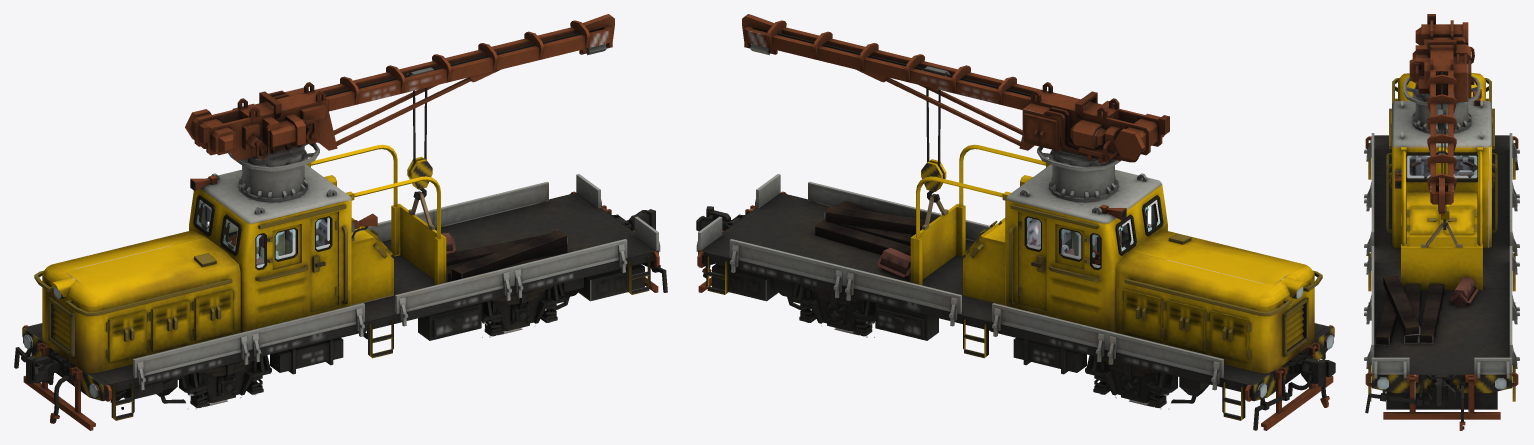
File: mvp_ir_dgku.obj
The picture shows the model from 3 angles, left to right: view 1: azimuth 30°, elevation 25°; view 2: azimuth 150°, elevation 25°; view 3: azimuth 270°, elevation 25°; orthographic projection. The views are drawn at different scales.
Visible parts, largest first — view 1: FRAME_mvp_dgku, WIDGET_2_TOGGLE_CG_CRANE_LABEL_^, DOOR_1_mvp_dgku, INTERIOR_1_LCG_IL_mvp_dgku, WIDGET_9_TOGGLE_TL_3.21875_X_TL_-1.5_Y_CG_CRANE_LABEL_^; view 2: FRAME_mvp_dgku, WIDGET_2_TOGGLE_CG_CRANE_LABEL_^, DOOR_2_mvp_dgku, INTERIOR_1_LCG_IL_mvp_dgku, WIDGET_9_TOGGLE_TL_3.21875_X_TL_-1.5_Y_CG_CRANE_LABEL_^; view 3: FRAME_mvp_dgku, WIDGET_2_TOGGLE_CG_CRANE_LABEL_^, INTERIOR_1_LCG_IL_mvp_dgku, WIDGET_9_TOGGLE_TL_3.21875_X_TL_-1.5_Y_CG_CRANE_LABEL_^.
Boxes of the visible parts, bbox=[...] form: FRAME_mvp_dgku: bbox=[14, 144, 667, 430]; WIDGET_2_TOGGLE_CG_CRANE_LABEL_^: bbox=[185, 14, 614, 202]; DOOR_1_mvp_dgku: bbox=[310, 212, 338, 311]; INTERIOR_1_LCG_IL_mvp_dgku: bbox=[195, 199, 329, 268]; WIDGET_9_TOGGLE_TL_3.21875_X_TL_-1.5_Y_CG_CRANE_LABEL_^: bbox=[407, 87, 432, 200]; FRAME_mvp_dgku: bbox=[696, 144, 1335, 430]; WIDGET_2_TOGGLE_CG_CRANE_LABEL_^: bbox=[742, 14, 1169, 202]; DOOR_2_mvp_dgku: bbox=[1018, 212, 1046, 311]; INTERIOR_1_LCG_IL_mvp_dgku: bbox=[1027, 199, 1161, 268]; WIDGET_9_TOGGLE_TL_3.21875_X_TL_-1.5_Y_CG_CRANE_LABEL_^: bbox=[921, 86, 946, 202]; FRAME_mvp_dgku: bbox=[1364, 73, 1519, 430]; WIDGET_2_TOGGLE_CG_CRANE_LABEL_^: bbox=[1403, 14, 1480, 215]; INTERIOR_1_LCG_IL_mvp_dgku: bbox=[1406, 155, 1477, 179]; WIDGET_9_TOGGLE_TL_3.21875_X_TL_-1.5_Y_CG_CRANE_LABEL_^: bbox=[1440, 131, 1449, 229].
Size of the model in its own units: 13.56 by 5.66 by 3.32.
